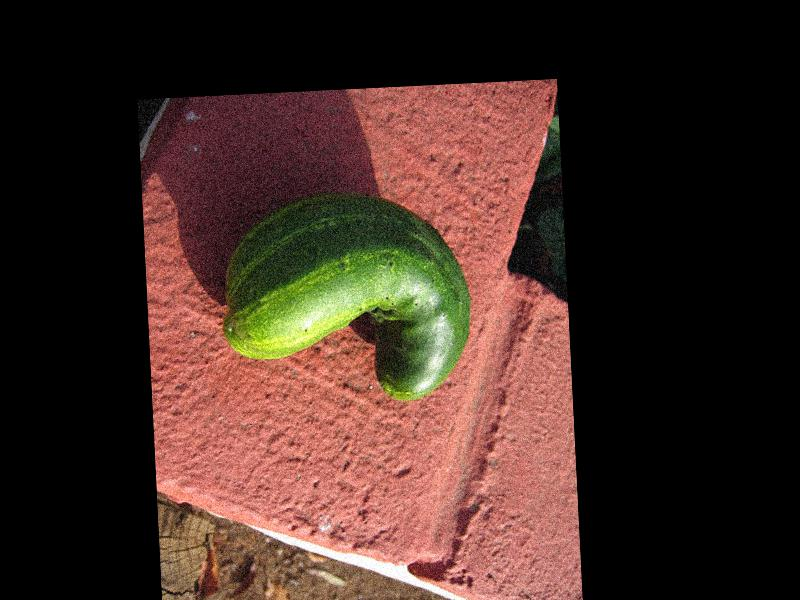Cucumber: (218, 188, 474, 411)
